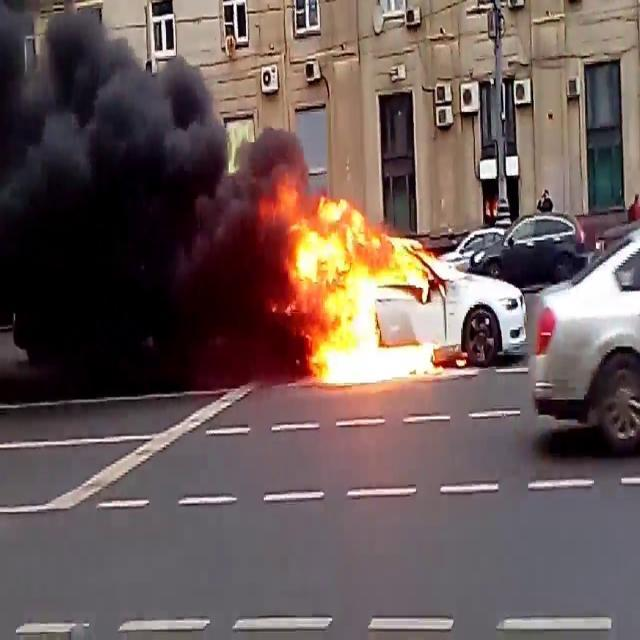Fire: (273, 174, 442, 384)
Smoke: (0, 2, 298, 384)
